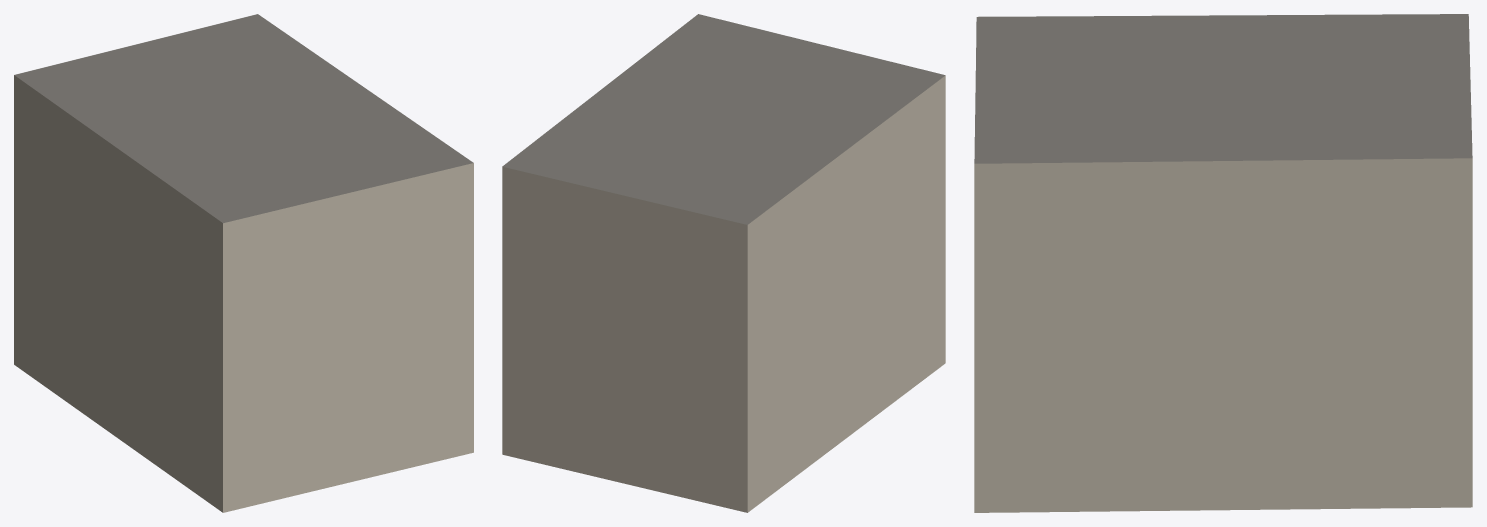
3 views of the same model, side by side, from view 1: azimuth 30°, elevation 25°; view 2: azimuth 150°, elevation 25°; view 3: azimuth 270°, elevation 25° (orthographic). The views are drawn at different scales.
Visible parts, largest first — view 1: HP-w446934766; view 2: HP-w446934766; view 3: HP-w446934766.
Boxes of the visible parts, x1=… form: HP-w446934766: x1=14, y1=14, x2=473, y2=512; HP-w446934766: x1=502, y1=14, x2=945, y2=512; HP-w446934766: x1=974, y1=14, x2=1472, y2=512.
Size of the model in its own units: 16.56 by 18 by 23.27.
